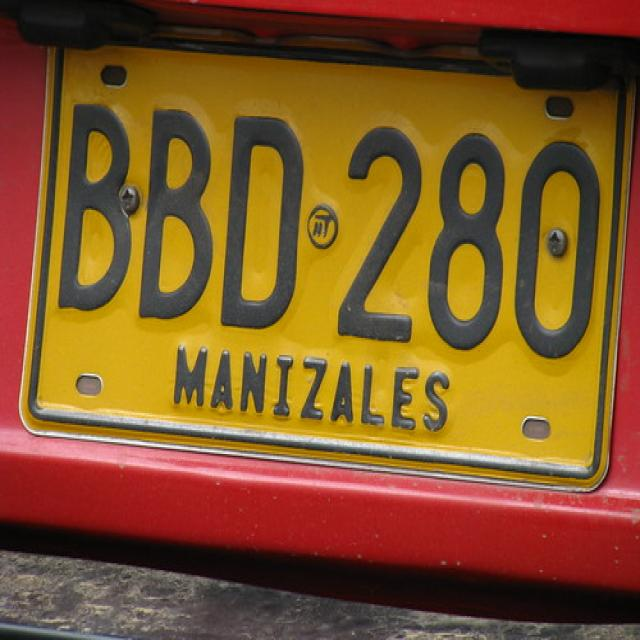placas: (45, 54, 622, 366)
